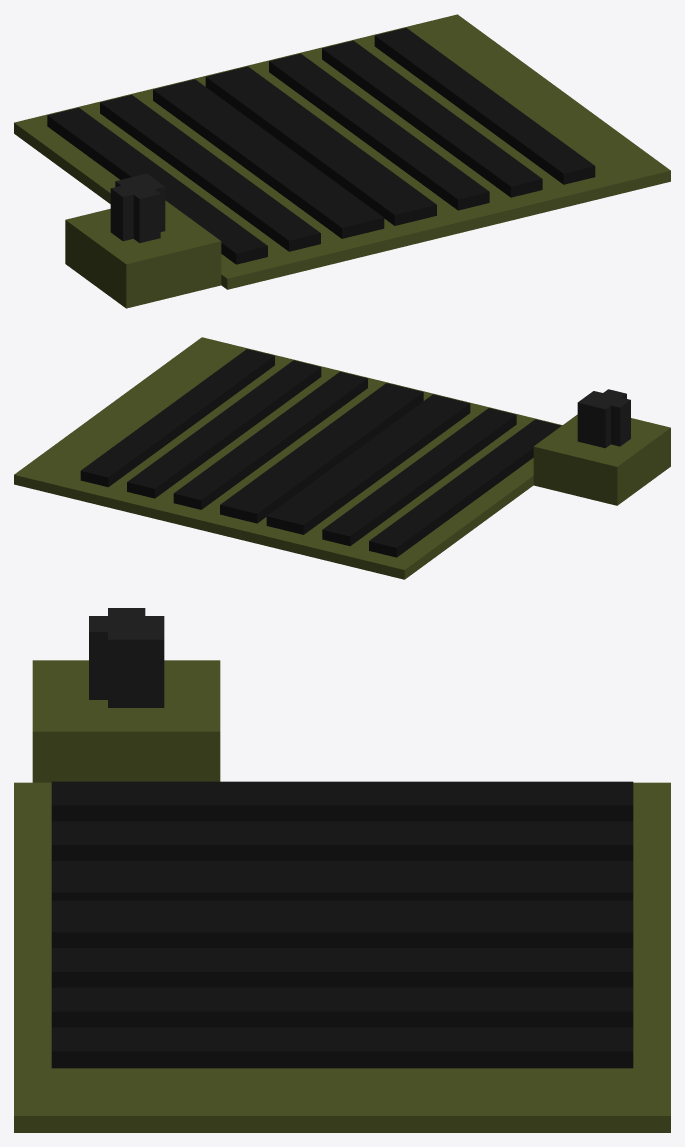
The model's file is apc_engine_deck.glb.
3 renders of one model, top to bottom at view 1: azimuth 30°, elevation 25°; view 2: azimuth 150°, elevation 25°; view 3: azimuth 270°, elevation 25°, orthographic. The views are drawn at different scales.
Parts seen in each view (by area): view 1: body:compound; view 2: body:compound; view 3: body:compound.
Boxes of the visible parts, box(x1,y1,x2,y2) form: body:compound: box(14, 14, 670, 308); body:compound: box(14, 337, 670, 579); body:compound: box(14, 608, 670, 1132).
Bounding box in the file's own units: 1.59 × 0.25 × 1.09.
